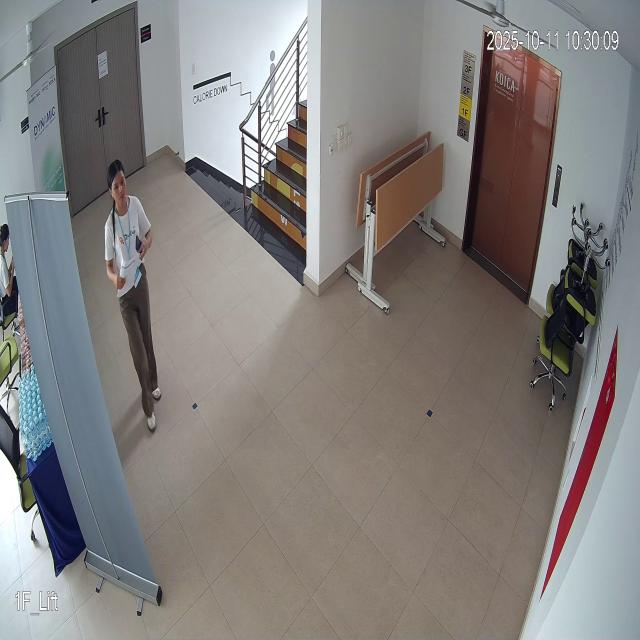face: (102, 156, 135, 212)
